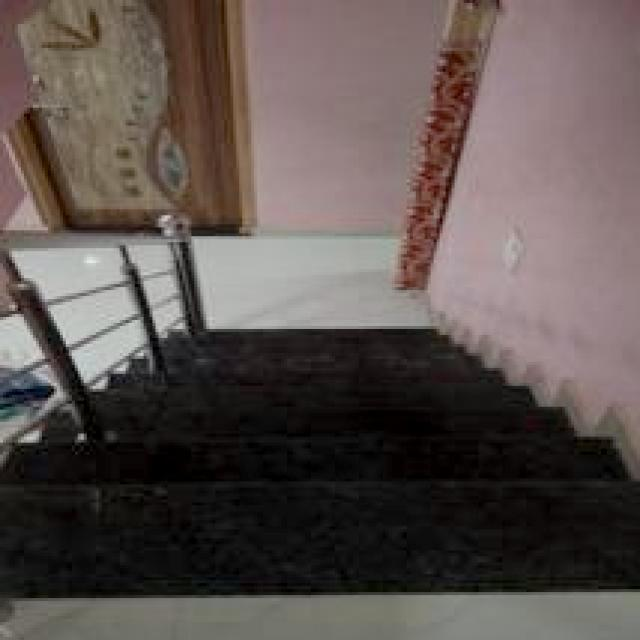downstair: (46, 333, 566, 572)
